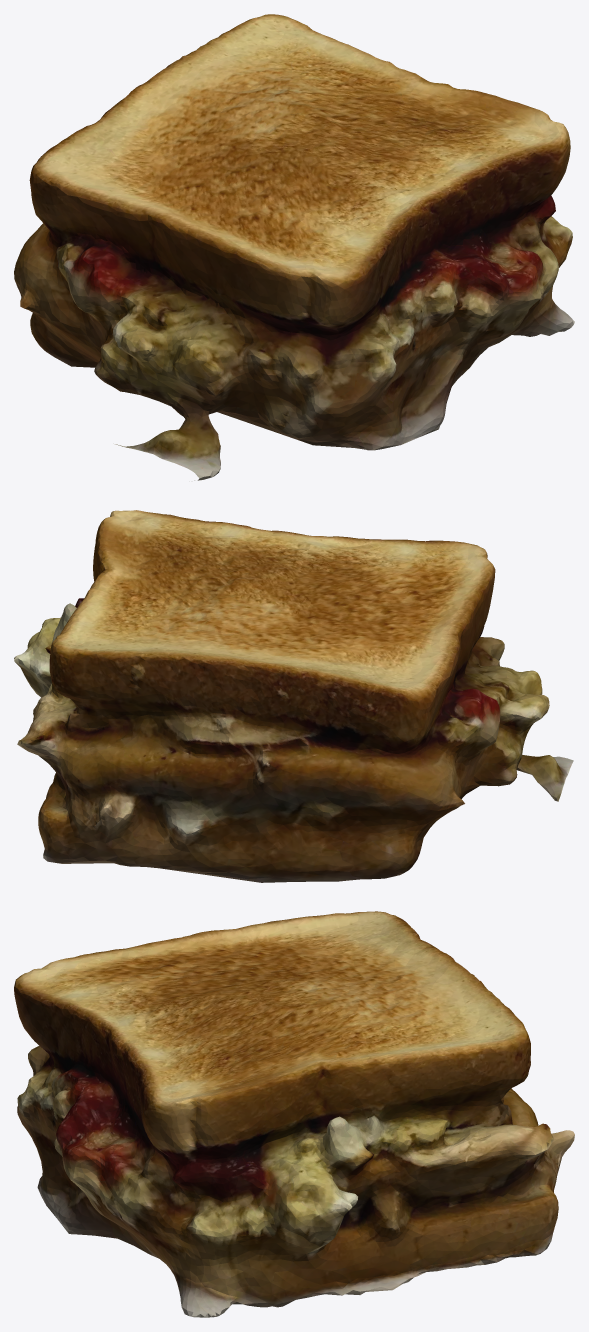
The model's file is serrano-transformed.glb.
3 renders of one model, top to bottom at view 1: azimuth 30°, elevation 25°; view 2: azimuth 150°, elevation 25°; view 3: azimuth 270°, elevation 25°, orthographic. The views are drawn at different scales.
Visible parts, largest first — view 1: Mesh_0; view 2: Mesh_0; view 3: Mesh_0.
Boxes of the visible parts, x1,y1,x2,y2 form: Mesh_0: [14, 14, 574, 480]; Mesh_0: [14, 510, 573, 882]; Mesh_0: [14, 911, 574, 1317].
Bounding box in the file's own units: 0.6842 × 0.3123 × 0.6873.
1 material, 1 textured.
